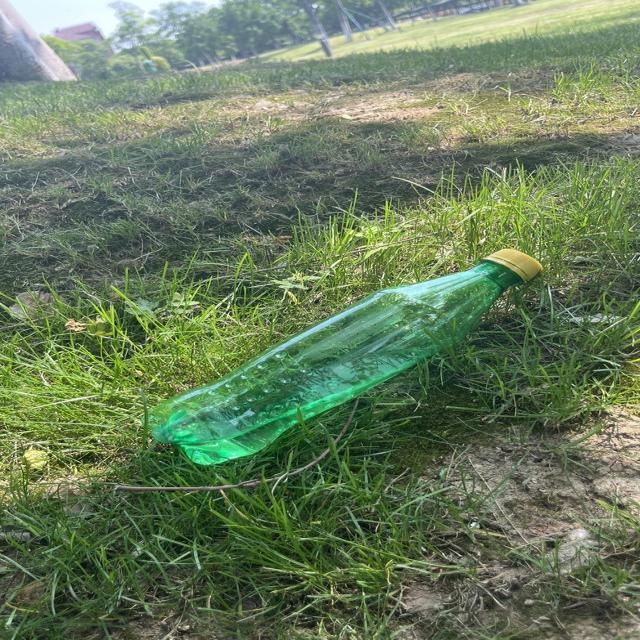low: (149, 250, 540, 464)
